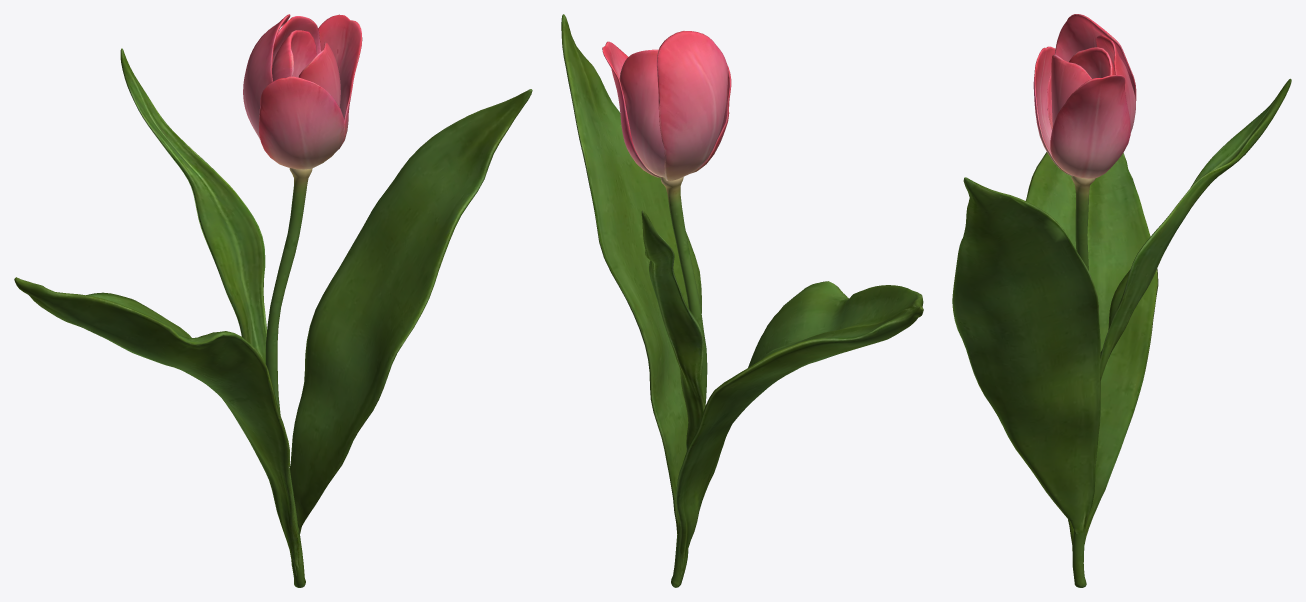
File: tulip.glb
The picture shows the model from 3 angles, left to right: view 1: azimuth 30°, elevation 25°; view 2: azimuth 150°, elevation 25°; view 3: azimuth 270°, elevation 25°; orthographic projection. The views are drawn at different scales.
Parts seen in each view (by area): view 1: tulip.1; view 2: tulip.1; view 3: tulip.1.
Part boxes in pixels (x1,y1,x2,y2): tulip.1: [14, 14, 532, 587]; tulip.1: [561, 14, 923, 587]; tulip.1: [952, 14, 1291, 587].
Size of the model in its own units: 0.0298 by 0.0367 by 0.02.
Materials: 1 (1 with a texture image).
